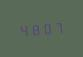eight: (29, 21, 39, 37)
four: (18, 22, 28, 38)
seven: (51, 19, 61, 35)
zero: (40, 20, 50, 36)
